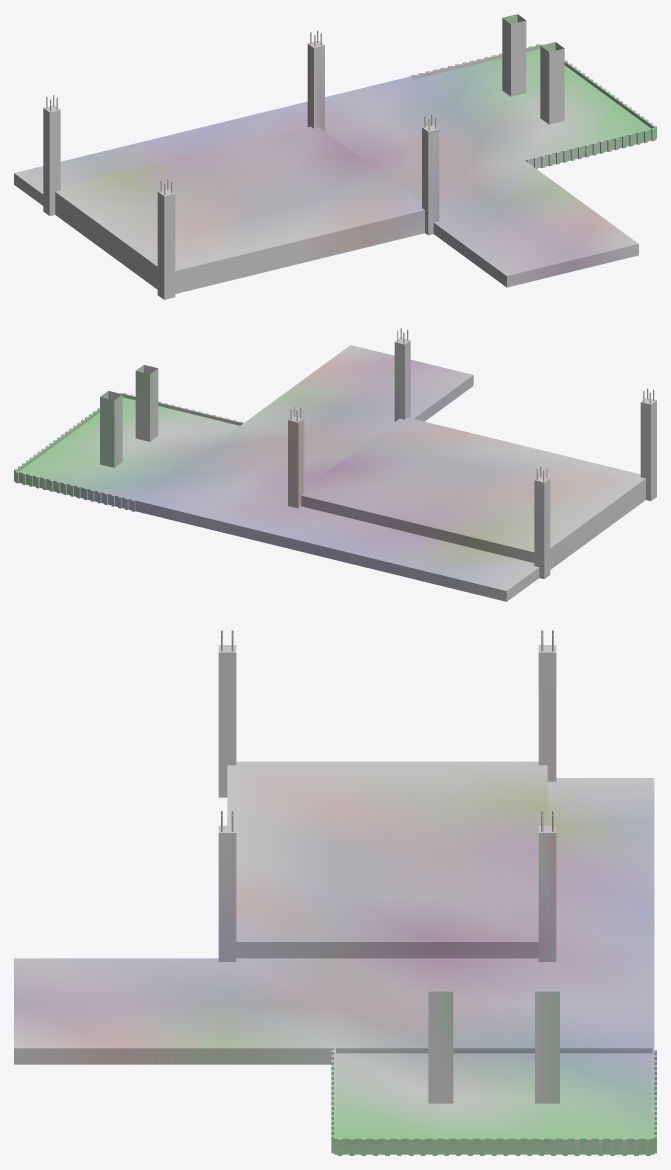
Rendered from Structures_10.fbx.
The picture shows the model from 3 angles, top to bottom: view 1: azimuth 30°, elevation 25°; view 2: azimuth 150°, elevation 25°; view 3: azimuth 270°, elevation 25°; orthographic projection. The views are drawn at different scales.
Visible parts, largest first — view 1: Structures_10; view 2: Structures_10; view 3: Structures_10.
Part boxes in pixels (x1,y1,x2,y2): Structures_10: (14,14,656,299); Structures_10: (14,328,656,601); Structures_10: (14,630,656,1155).
Size of what is drawn, in the model's own units: 2433 by 500 by 1808.
